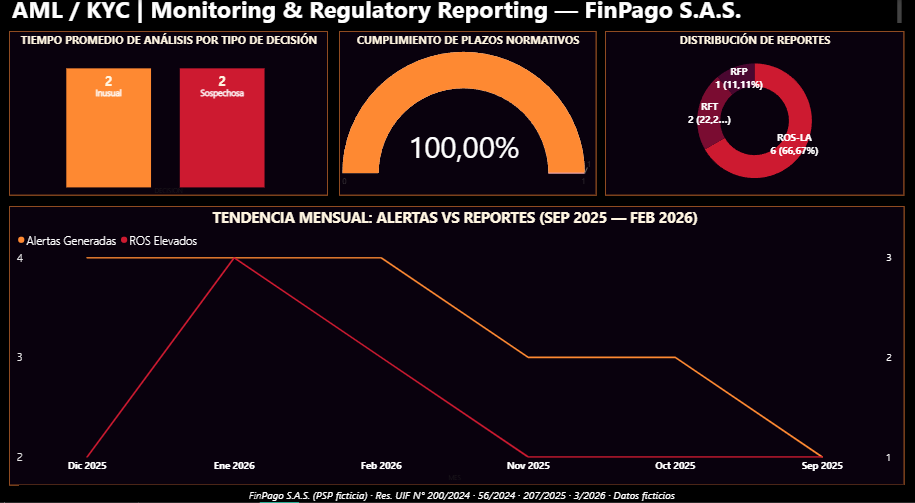

The dashboard page shown, as its layout file describes it:
{"tool":"powerbi","page":{"name":"Vista Gerencial","canvas":[1664,936],"ordinal":1},"visuals":[{"type":"gauge","title":"CUMPLIMIENTO DE PLAZOS NORMATIVOS","fields":{"MaxValue":["LOG_20_CASOS1.Maximo"],"MinValue":["LOG_20_CASOS1.Minimo"],"TargetValue":["LOG_20_CASOS1.Objetivo"],"Y":["LOG_20_CASOS1.Pct Plazo Cumplido"]},"box":[615.8,73.9,468,299.4],"z":0},{"type":"lineChart","title":"TENDENCIA MENSUAL: ALERTAS VS REPORTES (SEP 2025 — FEB 2026)","fields":{"Category":["TENDECIA_MENSUAL.MES"],"Y":["Sum(TENDECIA_MENSUAL.ALERTAS_GENERADAS)"],"Y2":["Sum(TENDECIA_MENSUAL.ROS_ELEVADOS)"]},"box":[17.1,392.2,1627.6,507.8],"z":1000},{"type":"donutChart","title":"DISTRIBUCIÓN DE REPORTES","fields":{"Category":["LOG_20_CASOS1.TIPO_REPORTE"],"Y":["LOG_20_CASOS1.Total Casos"]},"box":[1100.8,73.9,543.8,299.4],"z":2000},{"type":"columnChart","title":"TIEMPO PROMEDIO DE ANÁLISIS POR TIPO DE DECISIÓN","fields":{"Category":["LOG_20_CASOS1.DECISION"],"Y":["Count(LOG_20_CASOS1.DIAS_ANALISIS)"]},"box":[17.1,73.9,579.8,299.4],"z":3000},{"type":"textbox","box":[17.1,0,1627.6,60.6],"z":4000},{"type":"textbox","box":[34.1,900,1610.5,36],"z":5000}]}

Visuals, with their boxes in screenshot pixels (x1, y1, x2, y2), scaled from the page's 1664x936 canvas onto the 915x503 screenshot:
"CUMPLIMIENTO DE PLAZOS NORMATIVOS" gauge: (339, 40, 596, 201)
"TENDENCIA MENSUAL: ALERTAS VS REPORTES (SEP 2025 — FEB 2026)" lineChart: (9, 211, 904, 484)
"DISTRIBUCIÓN DE REPORTES" donutChart: (605, 40, 904, 201)
"TIEMPO PROMEDIO DE ANÁLISIS POR TIPO DE DECISIÓN" columnChart: (9, 40, 328, 201)
textbox: (9, 0, 904, 33)
textbox: (19, 484, 904, 502)
